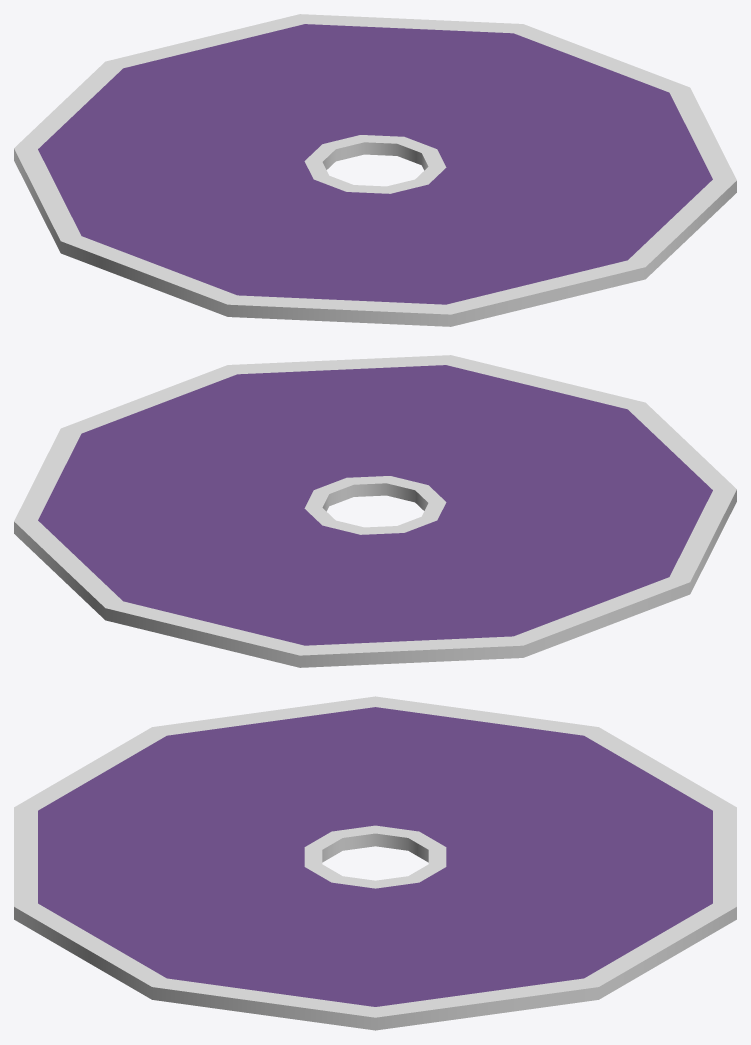
The model's file is 64_prop_CD2.FBX.
3 renders of one model, top to bottom at view 1: azimuth 30°, elevation 25°; view 2: azimuth 150°, elevation 25°; view 3: azimuth 270°, elevation 25°, orthographic. The views are drawn at different scales.
Visible parts, largest first — view 1: prop_CD2; view 2: prop_CD2; view 3: prop_CD2.
Boxes of the visible parts, x1=… form: prop_CD2: x1=14, y1=14, x2=736, y2=326; prop_CD2: x1=14, y1=355, x2=736, y2=667; prop_CD2: x1=14, y1=696, x2=736, y2=1030.
Bounding box in the file's own units: 13.84 × 0.2576 × 13.16.
